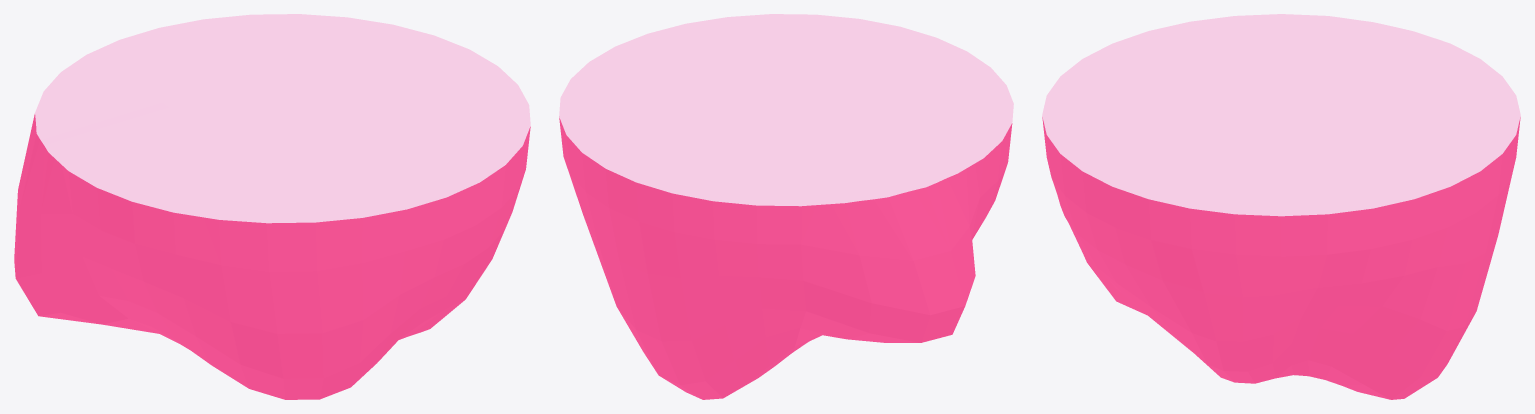
File: terrain_type_03.glb
3 views of the same model, side by side, from view 1: azimuth 30°, elevation 25°; view 2: azimuth 150°, elevation 25°; view 3: azimuth 270°, elevation 25° (orthographic). The views are drawn at different scales.
Visible parts, largest first — view 1: basic_terrain; view 2: basic_terrain; view 3: basic_terrain.
Boxes of the visible parts, x1,y1,x2,y2 form: basic_terrain: [14, 14, 530, 399]; basic_terrain: [559, 14, 1013, 399]; basic_terrain: [1042, 14, 1520, 399].
Bounding box in the file's own units: 2.08 × 1.21 × 2.
